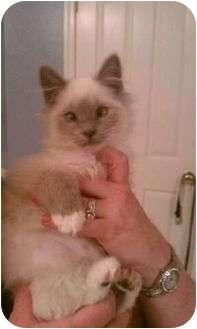siamese: (33, 49, 138, 162)
